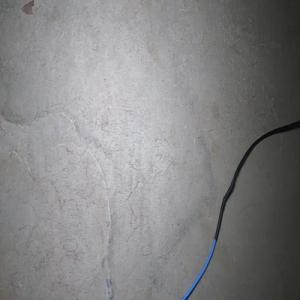Wire: (181, 120, 300, 300)
